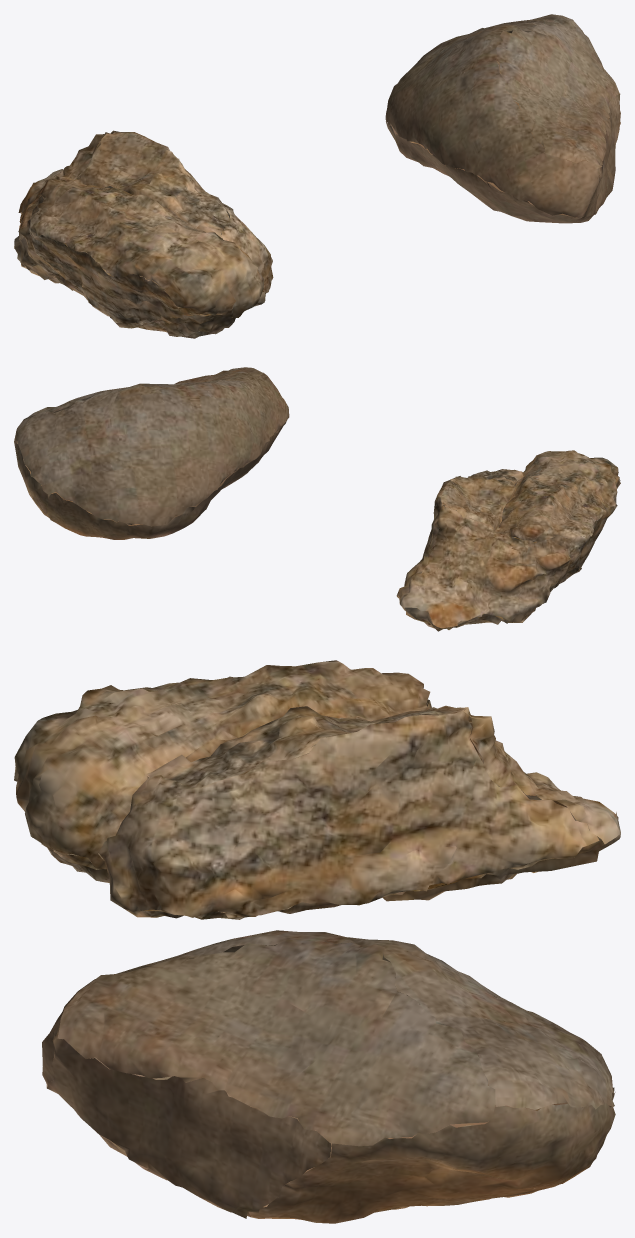
The model's file is namaqualand_boulders_01.glb.
The picture shows the model from 3 angles, top to bottom: view 1: azimuth 30°, elevation 25°; view 2: azimuth 150°, elevation 25°; view 3: azimuth 270°, elevation 25°; orthographic projection. The views are drawn at different scales.
Visible parts, largest first — view 1: namaqualand_rocks_01_a; view 2: namaqualand_rocks_01_a; view 3: namaqualand_rocks_01_a.
Boxes of the visible parts, bbox=[...] form: namaqualand_rocks_01_a: bbox=[14, 14, 620, 338]; namaqualand_rocks_01_a: bbox=[14, 367, 620, 631]; namaqualand_rocks_01_a: bbox=[14, 660, 620, 1223].
Bounding box in the file's own units: 1.06 × 0.2531 × 0.5835.
1 material, 1 textured.
